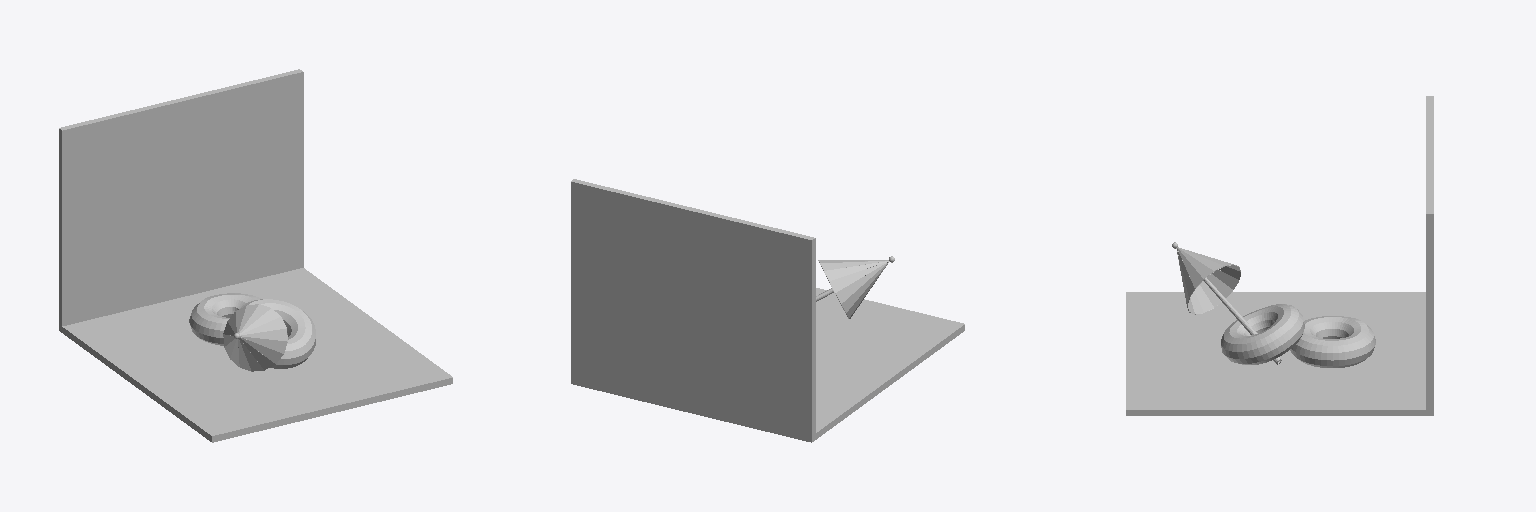
Rendered from curvedobjects.obj.
3 views of the same model, side by side, from view 1: azimuth 30°, elevation 25°; view 2: azimuth 150°, elevation 25°; view 3: azimuth 270°, elevation 25° (orthographic).
Parts seen in each view (by area): view 1: Cube.001, Cube, Vert, Torus.002, Torus.001; view 2: Cube.001, Cube, Vert; view 3: Cube, Torus.002, Torus.001, Vert, Cube.001.
Part boxes in pixels (x1,y1,x2,y2): Cube.001: (59, 69, 303, 332); Cube: (62, 268, 452, 442); Vert: (223, 304, 287, 371); Torus.002: (240, 299, 315, 368); Torus.001: (189, 293, 260, 345); Cube.001: (571, 179, 815, 442); Cube: (816, 288, 964, 439); Vert: (816, 260, 889, 318); Cube: (1126, 292, 1426, 415); Torus.002: (1221, 304, 1304, 364); Torus.001: (1290, 316, 1375, 367); Vert: (1176, 247, 1281, 364); Cube.001: (1426, 96, 1433, 415).
Bounding box in the file's own units: 11.99 × 9.6 × 13.2.